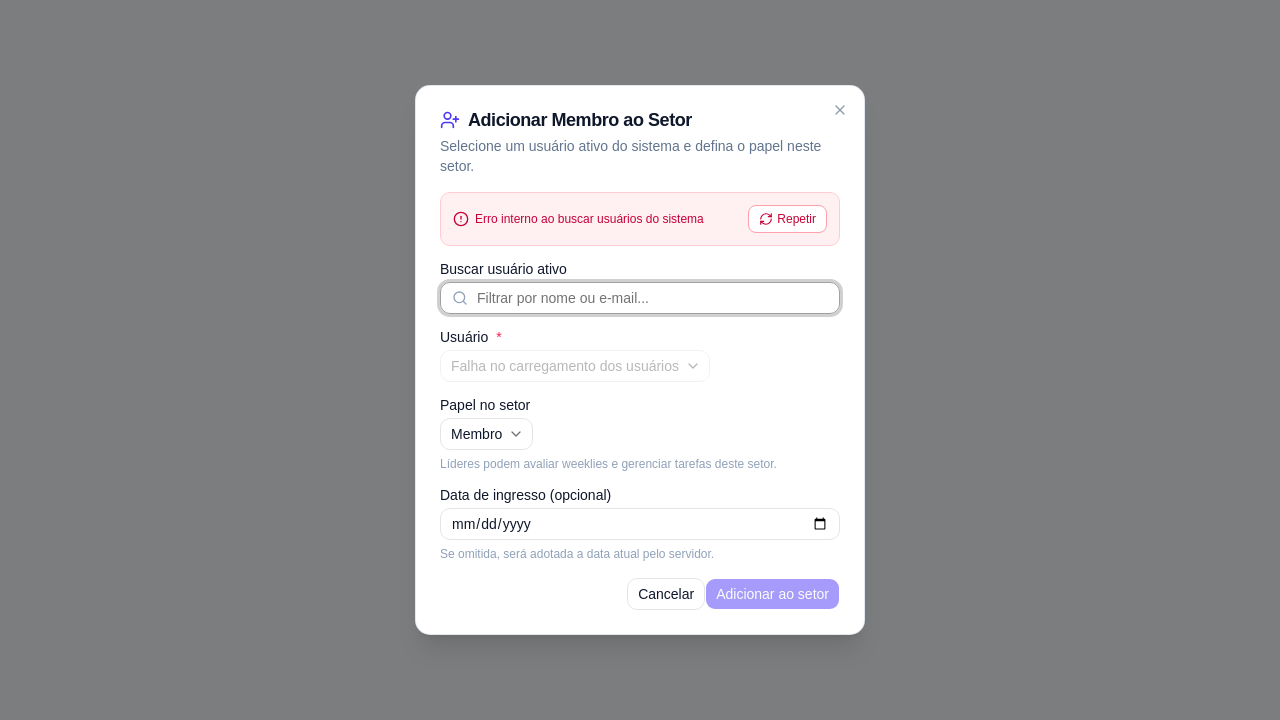
Test: AddMemberModal Component › exibe alerta de erro na tela quando requisição falha e permite repetir
Expected: the text "Erro interno ao buscar usuários do sistema" is shown, [475,211,704,227]
Click the button "Repetir" at (788, 219), box [748,205,827,233]
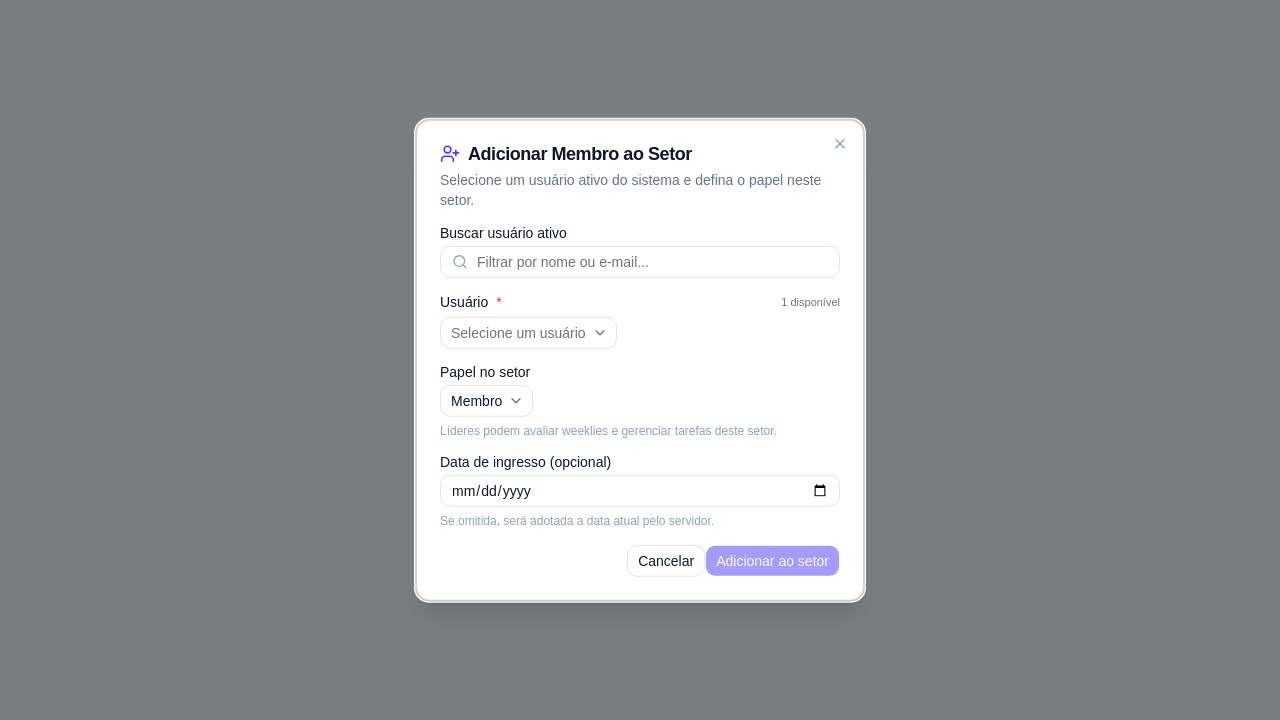
Expected: the text "Erro interno ao buscar usuários" is gone
Expected: the text "1 disponível" is shown, [781,294,840,310]
